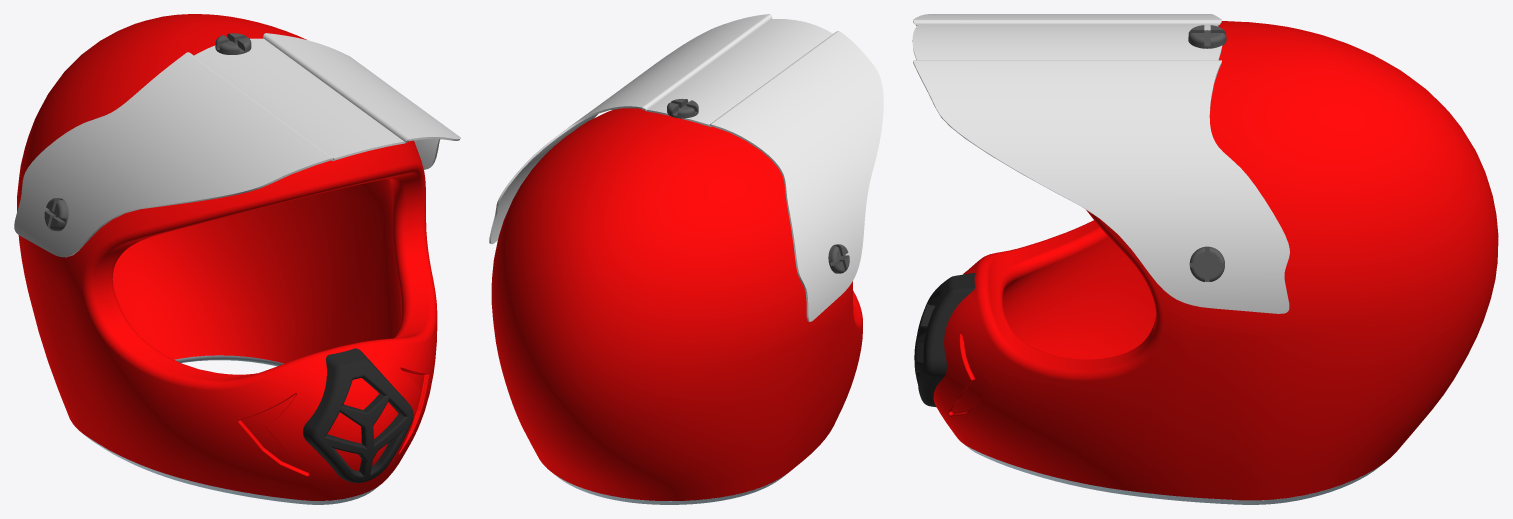
Rendered from Motocross_helmet.glb.
The picture shows the model from 3 angles, left to right: view 1: azimuth 30°, elevation 25°; view 2: azimuth 150°, elevation 25°; view 3: azimuth 270°, elevation 25°; orthographic projection. The views are drawn at different scales.
Parts seen in each view (by area): view 1: Motocross helmet.prt.SLDPRT; view 2: Motocross helmet.prt.SLDPRT; view 3: Motocross helmet.prt.SLDPRT.
Boxes of the visible parts, bbox=[...] form: Motocross helmet.prt.SLDPRT: bbox=[14, 14, 460, 504]; Motocross helmet.prt.SLDPRT: bbox=[489, 14, 883, 504]; Motocross helmet.prt.SLDPRT: bbox=[912, 14, 1498, 504].
Bounding box in the file's own units: 0.0488 × 0.0484 × 0.0629.
